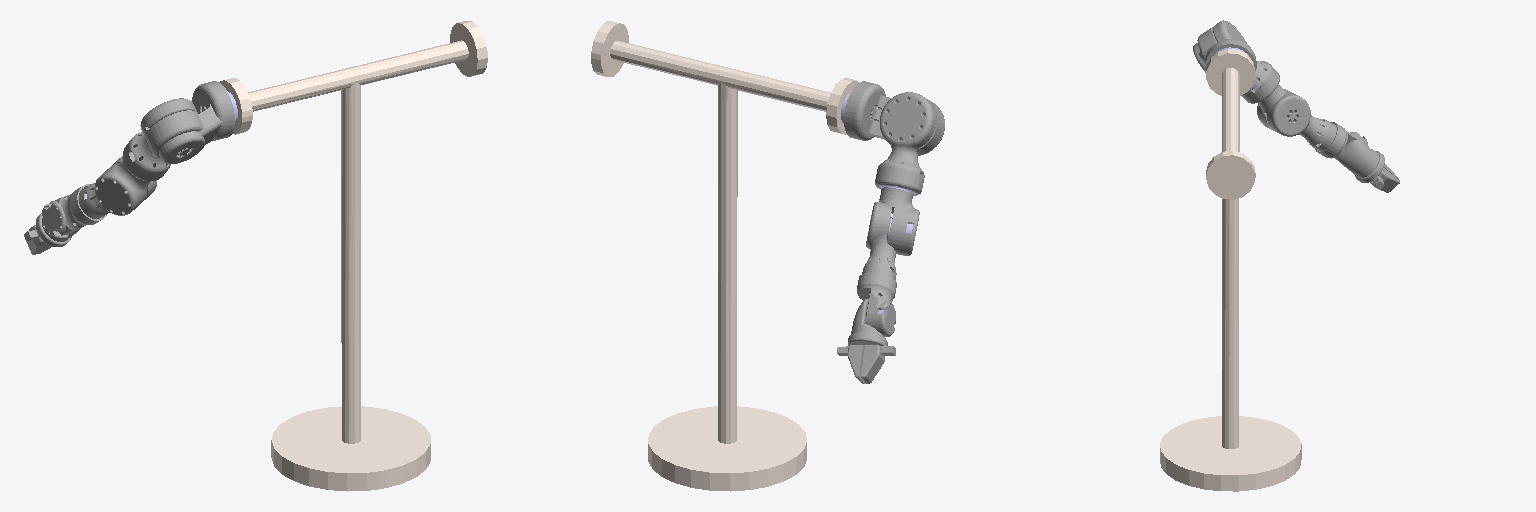
--- Render facts (derived) ---
Views: 3 orthographic renders of the robot side by side, from view 1: azimuth 30°, elevation 25°; view 2: azimuth 150°, elevation 25°; view 3: azimuth 270°, elevation 25°.
Model humanoid_arm_5dof_ with 23 links and 22 joints (6 revolute, 2 prismatic, 14 fixed), rooted at base_link, posed all joints at 0.
Visible links, largest first — view 1: base_link, left_shoulder_pitch, left_shoulder_roll, left_shoulder_yaw, left_wrist, left_elbow; view 2: base_link, left_shoulder_roll, left_shoulder_pitch, left_wrist, left_elbow, left_shoulder_yaw, left_palm, left_palm_left_finger; view 3: base_link, left_elbow, left_shoulder_roll, left_hand, left_shoulder_pitch, left_wrist.
Link boxes in pixels (box(x1,y1,x2,y2)): base_link: box(220, 21, 487, 491); left_shoulder_pitch: box(145, 81, 234, 163); left_shoulder_roll: box(123, 98, 197, 180); left_shoulder_yaw: box(95, 161, 150, 215); left_wrist: box(42, 184, 106, 235); left_elbow: box(79, 156, 156, 218); base_link: box(591, 21, 858, 491); left_shoulder_roll: box(875, 92, 936, 195); left_shoulder_pitch: box(844, 81, 944, 155); left_wrist: box(857, 272, 896, 336); left_elbow: box(862, 202, 896, 279); left_shoulder_yaw: box(879, 188, 919, 255); left_palm: box(837, 333, 895, 355); left_palm_left_finger: box(861, 345, 884, 383); base_link: box(1160, 49, 1301, 491); left_elbow: box(1267, 92, 1336, 151); left_shoulder_roll: box(1213, 20, 1279, 103); left_hand: box(1337, 140, 1378, 177); left_shoulder_pitch: box(1193, 27, 1256, 72); left_wrist: box(1315, 122, 1368, 159).
Size in the robot's own frame: 1.07 by 0.677 by 1.12 metres.
23 mesh visuals loaded from 23 distinct referenced files (23 binary STL).

robot.urdf — humanoid_arm_5dof_:
<?xml version="1.0" encoding="utf-8"?>
<!-- This URDF was automatically created by SolidWorks to URDF Exporter! Originally created by Stephen Brawner ([email redacted]) 
     Commit Version: 1.6.0-4-g7f85cfe  Build Version: 1.6.7995.38578
     For more information, please see http://wiki.ros.org/sw_urdf_exporter -->
<robot
  name="humanoid_arm_5dof_">
  <link
    name="base_link">
    <inertial>
      <origin
        xyz="-7.688E-08 -6.1286E-07 0.33673"
        rpy="0 0 0" />
      <mass
        value="81.158" />
      <inertia
        ixx="15.828"
        ixy="-6.0733E-06"
        ixz="3.5965E-06"
        iyy="17.002"
        iyz="3.1799E-05"
        izz="2.1791" />
    </inertial>
    <visual>
      <origin
        xyz="0 0 0"
        rpy="0 0 0" />
      <geometry>
        <mesh
          filename="package://humanoid_arm_5dof_/meshes/base_link.STL" />
      </geometry>
      <material
        name="">
        <color
          rgba="1 0.94902 0.9098 1" />
      </material>
    </visual>
    <collision>
      <origin
        xyz="0 0 0"
        rpy="0 0 0" />
      <geometry>
        <mesh
          filename="package://humanoid_arm_5dof_/meshes/base_link.STL" />
      </geometry>
    </collision>
  </link>
  <link
    name="left_shoulder_pitch_rs04_actuator">
    <inertial>
      <origin
        xyz="-0.024532 1.1724E-12 -9.6279E-13"
        rpy="0 0 0" />
      <mass
        value="1.345" />
      <inertia
        ixx="0.00087641"
        ixy="-1.1554E-17"
        ixz="-1.4768E-16"
        iyy="0.0005424"
        iyz="-3.5471E-06"
        izz="0.00054116" />
    </inertial>
    <visual>
      <origin
        xyz="0 0 0"
        rpy="0 0 0" />
      <geometry>
        <mesh
          filename="package://humanoid_arm_5dof_/meshes/left_shoulder_pitch_rs04_actuator.STL" />
      </geometry>
      <material
        name="">
        <color
          rgba="0.82353 0.82353 1 1" />
      </material>
    </visual>
    <collision>
      <origin
        xyz="0 0 0"
        rpy="0 0 0" />
      <geometry>
        <mesh
          filename="package://humanoid_arm_5dof_/meshes/left_shoulder_pitch_rs04_actuator.STL" />
      </geometry>
    </collision>
  </link>
  <joint
    name="left_shoulder_pitch_rs04_actuator_fixture_link"
    type="fixed">
    <origin
      xyz="-0.4077 0 1.05"
      rpy="-0.63866 0 3.1416" />
    <parent
      link="base_link" />
    <child
      link="left_shoulder_pitch_rs04_actuator" />
    <axis
      xyz="0 0 0" />
  </joint>
  <link
    name="left_shoulder_pitch_rs04_flange">
    <inertial>
      <origin
        xyz="-0.0018894 -9.5572E-05 2.5808E-05"
        rpy="0 0 0" />
      <mass
        value="0.0075" />
      <inertia
        ixx="2.3623E-06"
        ixy="8.4108E-21"
        ixz="-1.0866E-20"
        iyy="1.1941E-06"
        iyz="3.7058E-21"
        izz="1.1941E-06" />
    </inertial>
    <visual>
      <origin
        xyz="0 0 0"
        rpy="0 0 0" />
      <geometry>
        <mesh
          filename="package://humanoid_arm_5dof_/meshes/left_shoulder_pitch_rs04_flange.STL" />
      </geometry>
      <material
        name="">
        <color
          rgba="0.82353 0.82353 1 1" />
      </material>
    </visual>
    <collision>
      <origin
        xyz="0 0 0"
        rpy="0 0 0" />
      <geometry>
        <mesh
          filename="package://humanoid_arm_5dof_/meshes/left_shoulder_pitch_rs04_flange.STL" />
      </geometry>
    </collision>
  </link>
  <joint
    name="left_shoulder_pitch_rs04"
    type="revolute">
    <origin
      xyz="0 0 0"
      rpy="0 0 0" />
    <parent
      link="left_shoulder_pitch_rs04_actuator" />
    <child
      link="left_shoulder_pitch_rs04_flange" />
    <axis
      xyz="1 0 0" />
    <limit
      lower="-3.14"
      upper="3.14"
      effort="120"
      velocity="3" />
    <safety_controller
      soft_upper_limit="3.14"
      soft_lower_limit="-3.14"
      k_velocity="0" />
  </joint>
  <link
    name="left_shoulder_pitch">
    <inertial>
      <origin
        xyz="0.068247 0.039551 -5.2339E-06"
        rpy="0 0 0" />
      <mass
        value="0.29944" />
      <inertia
        ixx="0.0043457"
        ixy="-0.0020544"
        ixz="-3.8776E-07"
        iyy="0.0075578"
        iyz="-1.6186E-07"
        izz="0.0076907" />
    </inertial>
    <visual>
      <origin
        xyz="0 0 0"
        rpy="0 0 0" />
      <geometry>
        <mesh
          filename="package://humanoid_arm_5dof_/meshes/left_shoulder_pitch.STL" />
      </geometry>
      <material
        name="">
        <color
          rgba="0.69804 0.69804 0.69804 1" />
      </material>
    </visual>
    <collision>
      <origin
        xyz="0 0 0"
        rpy="0 0 0" />
      <geometry>
        <mesh
          filename="package://humanoid_arm_5dof_/meshes/left_shoulder_pitch.STL" />
      </geometry>
    </collision>
  </link>
  <joint
    name="left_shoulder_pitch_fixture"
    type="fixed">
    <origin
      xyz="0 0 0"
      rpy="0 0 0" />
    <parent
      link="left_shoulder_pitch_rs04_flange" />
    <child
      link="left_shoulder_pitch" />
    <axis
      xyz="0 0 0" />
  </joint>
  <link
    name="left_shoulder_roll_rs04_flange">
    <inertial>
      <origin
        xyz="-8.0792E-12 -0.0021106 2.1539E-10"
        rpy="0 0 0" />
      <mass
        value="0.0075" />
      <inertia
        ixx="1.1941E-06"
        ixy="2.5808E-22"
        ixz="8.8674E-22"
        iyy="2.3623E-06"
        iyz="-4.903E-15"
        izz="1.1941E-06" />
    </inertial>
    <visual>
      <origin
        xyz="0 0 0"
        rpy="0 0 0" />
      <geometry>
        <mesh
          filename="package://humanoid_arm_5dof_/meshes/left_shoulder_roll_rs04_flange.STL" />
      </geometry>
      <material
        name="">
        <color
          rgba="0.82353 0.82353 1 1" />
      </material>
    </visual>
    <collision>
      <origin
        xyz="0 0 0"
        rpy="0 0 0" />
      <geometry>
        <mesh
          filename="package://humanoid_arm_5dof_/meshes/left_shoulder_roll_rs04_flange.STL" />
      </geometry>
    </collision>
  </link>
  <joint
    name="left_shoulder_roll_rs04_flange"
    type="fixed">
    <origin
      xyz="0.116775431275821 0.0487000000004332 -2.70558071411298E-05"
      rpy="0 0 3.14159265358979" />
    <parent
      link="left_shoulder_pitch" />
    <child
      link="left_shoulder_roll_rs04_flange" />
    <axis
      xyz="0 0 0" />
  </joint>
  <link
    name="left_shoulder_roll_rs04_actuator">
    <inertial>
      <origin
        xyz="7.5431E-05 0.020532 2.7056E-05"
        rpy="0 0 0" />
      <mass
        value="1.345" />
      <inertia
        ixx="0.00054201"
        ixy="-1.5116E-14"
        ixz="-3.5941E-06"
        iyy="0.00087641"
        iyz="-1.4055E-12"
        izz="0.00054156" />
    </inertial>
    <visual>
      <origin
        xyz="0 0 0"
        rpy="0 0 0" />
      <geometry>
        <mesh
          filename="package://humanoid_arm_5dof_/meshes/left_shoulder_roll_rs04_actuator.STL" />
      </geometry>
      <material
        name="">
        <color
          rgba="0.82353 0.82353 1 1" />
      </material>
    </visual>
    <collision>
      <origin
        xyz="0 0 0"
        rpy="0 0 0" />
      <geometry>
        <mesh
          filename="package://humanoid_arm_5dof_/meshes/left_shoulder_roll_rs04_actuator.STL" />
      </geometry>
    </collision>
  </link>
  <joint
    name="left_shoulder_roll_rs04"
    type="revolute">
    <origin
      xyz="0 0 0"
      rpy="0 0 0" />
    <parent
      link="left_shoulder_roll_rs04_flange" />
    <child
      link="left_shoulder_roll_rs04_actuator" />
    <axis
      xyz="0 -1 0" />
    <limit
      lower="-3.5"
      upper="0.6"
      effort="120"
      velocity="3" />
    <safety_controller
      soft_upper_limit="3.14"
      soft_lower_limit="-3.14"
      k_velocity="0" />
  </joint>
  <link
    name="left_shoulder_roll">
    <inertial>
      <origin
        xyz="-0.0075223 0.049755 -0.055681"
        rpy="0 0 0" />
      <mass
        value="0.2494" />
      <inertia
        ixx="0.0066808"
        ixy="-0.00010577"
        ixz="-0.00053776"
        iyy="0.0073988"
        iyz="-0.0008009"
        izz="0.0022285" />
    </inertial>
    <visual>
      <origin
        xyz="0 0 0"
        rpy="0 0 0" />
      <geometry>
        <mesh
          filename="package://humanoid_arm_5dof_/meshes/left_shoulder_roll.STL" />
      </geometry>
      <material
        name="">
        <color
          rgba="0.69804 0.69804 0.69804 1" />
      </material>
    </visual>
    <collision>
      <origin
        xyz="0 0 0"
        rpy="0 0 0" />
      <geometry>
        <mesh
          filename="package://humanoid_arm_5dof_/meshes/left_shoulder_roll.STL" />
      </geometry>
    </collision>
  </link>
  <joint
    name="left_shoulde_roll_fixture"
    type="fixed">
    <origin
      xyz="0 0 0"
      rpy="0 0 0" />
    <parent
      link="left_shoulder_roll_rs04_actuator" />
    <child
      link="left_shoulder_roll" />
    <axis
      xyz="0 0 0" />
  </joint>
  <link
    name="left_shoulder_yaw_rs03_actuator">
    <inertial>
      <origin
        xyz="-0.00013735 -0.00027 0.025084"
        rpy="0 0 0" />
      <mass
        value="0.83" />
      <inertia
        ixx="0.00027432"
        ixy="-2.0735E-06"
        ixz="-2.5625E-07"
        iyy="0.00027129"
        iyz="-5.1493E-07"
        izz="0.00038166" />
    </inertial>
    <visual>
      <origin
        xyz="0 0 0"
        rpy="0 0 0" />
      <geometry>
        <mesh
          filename="package://humanoid_arm_5dof_/meshes/left_shoulder_yaw_rs03_actuator.STL" />
      </geometry>
      <material
        name="">
        <color
          rgba="0.82353 0.82353 1 1" />
      </material>
    </visual>
    <collision>
      <origin
        xyz="0 0 0"
        rpy="0 0 0" />
      <geometry>
        <mesh
          filename="package://humanoid_arm_5dof_/meshes/left_shoulder_yaw_rs03_actuator.STL" />
      </geometry>
    </collision>
  </link>
  <joint
    name="left_shoulder_yaw_rs03_actuator_fixture_link"
    type="fixed">
    <origin
      xyz="-0.0219716026665047 0.037700000000231 -0.173578614834026"
      rpy="0.0571232415871479 0.112571267005327 0.470875575147914" />
    <parent
      link="left_shoulder_roll" />
    <child
      link="left_shoulder_yaw_rs03_actuator" />
    <axis
      xyz="0 0 0" />
  </joint>
  <link
    name="left_shoulder_yaw_rs03_flange">
    <inertial>
      <origin
        xyz="-2.7103E-10 -6.8047E-10 -0.0012563"
        rpy="0 0 0" />
      <mass
        value="0.005" />
      <inertia
        ixx="5.6768E-07"
        ixy="8.2222E-22"
        ixz="8.735E-22"
        iyy="5.6768E-07"
        iyz="0"
        izz="1.1311E-06" />
    </inertial>
    <visual>
      <origin
        xyz="0 0 0"
        rpy="0 0 0" />
      <geometry>
        <mesh
          filename="package://humanoid_arm_5dof_/meshes/left_shoulder_yaw_rs03_flange.STL" />
      </geometry>
      <material
        name="">
        <color
          rgba="0.82353 0.82353 1 1" />
      </material>
    </visual>
    <collision>
      <origin
        xyz="0 0 0"
        rpy="0 0 0" />
      <geometry>
        <mesh
          filename="package://humanoid_arm_5dof_/meshes/left_shoulder_yaw_rs03_flange.STL" />
      </geometry>
    </collision>
  </link>
  <joint
    name="left_shoulder_yaw_rs03"
    type="revolute">
    <origin
      xyz="0 0 0"
      rpy="0 0 0" />
    <parent
      link="left_shoulder_yaw_rs03_actuator" />
    <child
      link="left_shoulder_yaw_rs03_flange" />
    <axis
      xyz="0 0 1" />
    <limit
      lower="-3.14"
      upper="3.14"
      effort="60"
      velocity="1.6" />
    <safety_controller
      soft_upper_limit="3.14"
      soft_lower_limit="-3.14"
      k_velocity="0" />
  </joint>
  <link
    name="left_shoulder_yaw_flange">
    <inertial>
      <origin
        xyz="-2.2487E-10 -3.6886E-10 -0.0089804"
        rpy="0 0 0" />
      <mass
        value="0.0088382" />
      <inertia
        ixx="1.2318E-05"
        ixy="-9.4259E-08"
        ixz="4.4901E-16"
        iyy="1.1992E-05"
        iyz="-6.0557E-16"
        izz="2.339E-05" />
    </inertial>
    <visual>
      <origin
        xyz="0 0 0"
        rpy="0 0 0" />
      <geometry>
        <mesh
          filename="package://humanoid_arm_5dof_/meshes/left_shoulder_yaw_flange.STL" />
      </geometry>
      <material
        name="">
        <color
          rgba="0.69804 0.69804 0.69804 1" />
      </material>
    </visual>
    <collision>
      <origin
        xyz="0 0 0"
        rpy="0 0 0" />
      <geometry>
        <mesh
          filename="package://humanoid_arm_5dof_/meshes/left_shoulder_yaw_flange.STL" />
      </geometry>
    </collision>
  </link>
  <joint
    name="left_shoulder_yaw_flange_fixture"
    type="fixed">
    <origin
      xyz="0 0 0"
      rpy="0 0 0" />
    <parent
      link="left_shoulder_yaw_rs03_flange" />
    <child
      link="left_shoulder_yaw_flange" />
    <axis
      xyz="0 0 0" />
  </joint>
  <link
    name="left_shoulder_yaw">
    <inertial>
      <origin
        xyz="-0.027609 1.0121E-06 -0.076632"
        rpy="0 0 0" />
      <mass
        value="0.122018" />
      <inertia
        ixx="0.0018364"
        ixy="2.5971E-07"
        ixz="-0.00033902"
        iyy="0.0016454"
        iyz="8.6387E-08"
        izz="0.0010145" />
    </inertial>
    <visual>
      <origin
        xyz="0 0 0"
        rpy="0 0 0" />
      <geometry>
        <mesh
          filename="package://humanoid_arm_5dof_/meshes/left_shoulder_yaw.STL" />
      </geometry>
      <material
        name="">
        <color
          rgba="0.69804 0.69804 0.69804 1" />
      </material>
    </visual>
    <collision>
      <origin
        xyz="0 0 0"
        rpy="0 0 0" />
      <geometry>
        <mesh
          filename="package://humanoid_arm_5dof_/meshes/left_shoulder_yaw.STL" />
      </geometry>
    </collision>
  </link>
  <joint
    name="left_shoulder_yaw_fixture"
    type="fixed">
    <origin
      xyz="0 0 0"
      rpy="0 0 0" />
    <parent
      link="left_shoulder_yaw_flange" />
    <child
      link="left_shoulder_yaw" />
    <axis
      xyz="0 0 0" />
  </joint>
  <link
    name="left_elbow_rs03_actuator">
    <inertial>
      <origin
        xyz="-0.025084 8.1191E-07 -0.00030291"
        rpy="0 0 0" />
      <mass
        value="0.83" />
      <inertia
        ixx="0.00038166"
        ixy="3.1874E-09"
        ixz="5.7519E-07"
        iyy="0.00027537"
        iyz="1.1044E-08"
        izz="0.00027024" />
    </inertial>
    <visual>
      <origin
        xyz="0 0 0"
        rpy="0 0 0" />
      <geometry>
        <mesh
          filename="package://humanoid_arm_5dof_/meshes/left_elbow_rs03_actuator.STL" />
      </geometry>
      <material
        name="">
        <color
          rgba="0.82353 0.82353 1 1" />
      </material>
    </visual>
    <collision>
      <origin
        xyz="0 0 0"
        rpy="0 0 0" />
      <geometry>
        <mesh
          filename="package://humanoid_arm_5dof_/meshes/left_elbow_rs03_actuator.STL" />
      </geometry>
    </collision>
  </link>
  <joint
    name="left_elbow_rs03_actuator_ficture_link"
    type="fixed">
    <origin
      xyz="0 0 -0.0987000004167597"
      rpy="0 0 0" />
    <parent
      link="left_shoulder_yaw" />
    <child
      link="left_elbow_rs03_actuator" />
    <axis
      xyz="0 0 0" />
  </joint>
  <link
    name="left_elbow_rs03_flange">
    <inertial>
      <origin
        xyz="0.0012563 -1.3768E-09 -1.6639E-10"
        rpy="0 0 0" />
      <mass
        value="0.005" />
      <inertia
        ixx="1.1311E-06"
        ixy="1.2805E-21"
        ixz="4.8043E-21"
        iyy="5.6768E-07"
        iyz="-4.4999E-22"
        izz="5.6768E-07" />
    </inertial>
    <visual>
      <origin
        xyz="0 0 0"
        rpy="0 0 0" />
      <geometry>
        <mesh
          filename="package://humanoid_arm_5dof_/meshes/left_elbow_rs03_flange.STL" />
      </geometry>
      <material
        name="">
        <color
          rgba="0.82353 0.82353 1 1" />
      </material>
    </visual>
    <collision>
      <origin
        xyz="0 0 0"
        rpy="0 0 0" />
      <geometry>
        <mesh
          filename="package://humanoid_arm_5dof_/meshes/left_elbow_rs03_flange.STL" />
      </geometry>
    </collision>
  </link>
  <joint
    name="left_elbow_rs03"
    type="revolute">
    <origin
      xyz="0 0 0"
      rpy="0 0 0" />
    <parent
      link="left_elbow_rs03_actuator" />
    <child
      link="left_elbow_rs03_flange" />
    <axis
      xyz="-1 0 0" />
    <limit
      lower="-1.3"
      upper="1.9"
      effort="60"
      velocity="1.6" />
    <safety_controller
      soft_upper_limit="3.14"
      soft_lower_limit="-3.14"
      k_velocity="0" />
  </joint>
  <link
    name="left_elbow">
    <inertial>
      <origin
        xyz="0.020821 0.0089724 -0.03236"
        rpy="0 0 0" />
      <mass
        value="0.194942" />
      <inertia
        ixx="0.0036503"
        ixy="0.00012418"
        ixz="-0.00045842"
        iyy="0.0031234"
        iyz="0.00057257"
        izz="0.001216" />
    </inertial>
    <visual>
      <origin
        xyz="0 0 0"
        rpy="0 0 0" />
      <geometry>
        <mesh
          filename="package://humanoid_arm_5dof_/meshes/left_elbow.STL" />
      </geometry>
      <material
        name="">
        <color
          rgba="0.69804 0.69804 0.69804 1" />
      </material>
    </visual>
    <collision>
      <origin
        xyz="0 0 0"
        rpy="0 0 0" />
      <geometry>
        <mesh
          filename="package://humanoid_arm_5dof_/meshes/left_elbow.STL" />
      </geometry>
    </collision>
  </link>
  <joint
    name="left_elbow_fixture"
    type="fixed">
    <origin
      xyz="0 0 0"
      rpy="0 0 0" />
    <parent
      link="left_elbow_rs03_flange" />
    <child
      link="left_elbow" />
    <axis
      xyz="0 0 0" />
  </joint>
  <link
    name="left_wrist_actuator">
    <inertial>
      <origin
        xyz="-6.2885E-10 -0.023014 2.7886E-07"
        rpy="0 0 0" />
      <mass
        value="0.38" />
      <inertia
        ixx="8.809E-05"
        ixy="-1.0052E-17"
        ixz="-7.3692E-20"
        iyy="0.000127"
        iyz="3.6836E-17"
        izz="8.809E-05" />
    </inertial>
    <visual>
      <origin
        xyz="0 0 0"
        rpy="0 0 0" />
      <geometry>
        <mesh
          filename="package://humanoid_arm_5dof_/meshes/left_wrist_actuator.STL" />
      </geometry>
      <material
        name="">
        <color
          rgba="0.82353 0.82353 1 1" />
      </material>
    </visual>
    <collision>
      <origin
        xyz="0 0 0"
        rpy="0 0 0" />
      <geometry>
        <mesh
          filename="package://humanoid_arm_5dof_/meshes/left_wrist_actuator.STL" />
      </geometry>
    </collision>
  </link>
  <joint
    name="left_wrist_rs02_actuator_fixture_link"
    type="fixed">
    <origin
      xyz="0.00550000028936815 0.0440612514790653 -0.158489293351936"
      rpy="-1.29963429793404 0 0" />
    <parent
      link="left_elbow" />
    <child
      link="left_wrist_actuator" />
    <axis
      xyz="0 0 0" />
  </joint>
  <link
    name="left_wrist_rs02_flange">
    <inertial>
      <origin
        xyz="-5.926E-10 -0.0019899 2.7821E-07"
        rpy="0 0 0" />
      <mass
        value="0.0025" />
      <inertia
        ixx="1.3495E-07"
        ixy="8.3817E-20"
        ixz="-2.8165E-22"
        iyy="2.634E-07"
        iyz="1.0098E-19"
        izz="1.3495E-07" />
    </inertial>
    <visual>
      <origin
        xyz="0 0 0"
        rpy="0 0 0" />
      <geometry>
        <mesh
          filename="package://humanoid_arm_5dof_/meshes/left_wrist_rs02_flange.STL" />
      </geometry>
      <material
        name="">
        <color
          rgba="0.82353 0.82353 1 1" />
      </material>
    </visual>
    <collision>
      <origin
        xyz="0 0 0"
        rpy="0 0 0" />
      <geometry>
        <mesh
          filename="package://humanoid_arm_5dof_/meshes/left_wrist_rs02_flange.STL" />
      </geometry>
    </collision>
  </link>
  <joint
    name="left_wrist_rs02"
    type="revolute">
    <origin
      xyz="0 0 0"
      rpy="0 0 0" />
    <parent
      link="left_wrist_actuator" />
    <child
      link="left_wrist_rs02_flange" />
    <axis
      xyz="0 1 0" />
    <limit
      lower="-3.14"
      upper="3.14"
      effort="17"
      velocity="0.8" />
    <safety_controller
      soft_upper_limit="3.14"
      soft_lower_limit="-3.14"
      k_velocity="0" />
  </joint>
  <link
    name="left_wrist">
    <inertial>
      <origin
        xyz="-0.012628 0.041809 0.0059405"
        rpy="0 0 0" />
      <mass
        value="0.097238" />
      <inertia
        ixx="0.0010421"
        ixy="0.00023897"
        ixz="2.5575E-06"
        iyy="0.00064729"
        iyz="-0.00011195"
        izz="0.0010487" />
    </inertial>
    <visual>
      <origin
        xyz="0 0 0"
        rpy="0 0 0" />
      <geometry>
        <mesh
          filename="package://humanoid_arm_5dof_/meshes/left_wrist.STL" />
      </geometry>
      <material
        name="">
        <color
          rgba="0.69804 0.69804 0.69804 1" />
      </material>
    </visual>
    <collision>
      <origin
        xyz="0 0 0"
        rpy="0 0 0" />
      <geometry>
        <mesh
          filename="package://humanoid_arm_5dof_/meshes/left_wrist.STL" />
      </geometry>
    </collision>
  </link>
  <joint
    name="left_wrist_fixture"
    type="fixed">
    <origin
      xyz="0 0 0"
      rpy="0 0 0" />
    <parent
      link="left_wrist_rs02_flange" />
    <child
      link="left_wrist" />
    <axis
      xyz="0 0 0" />
  </joint>
  <link
    name="left_hand_rs02">
    <inertial>
      <origin
        xyz="-0.023014 2.2389E-07 3.2594E-07"
        rpy="0 0 0" />
      <mass
        value="0.38" />
      <inertia
        ixx="0.000127"
        ixy="2.2647E-11"
        ixz="-1.704E-11"
        iyy="8.809E-05"
        iyz="-9.7542E-18"
        izz="8.809E-05" />
    </inertial>
    <visual>
      <origin
        xyz="0 0 0"
        rpy="0 0 0" />
      <geometry>
        <mesh
          filename="package://humanoid_arm_5dof_/meshes/left_hand_rs02.STL" />
      </geometry>
      <material
        name="">
        <color
          rgba="0.82353 0.82353 1 1" />
      </material>
    </visual>
    <collision>
      <origin
        xyz="0 0 0"
        rpy="0 0 0" />
      <geometry>
        <mesh
          filename="package://humanoid_arm_5dof_/meshes/left_hand_rs02.STL" />
      </geometry>
    </collision>
  </link>
  <joint
    name="left_hand_rs02_fixture_link"
    type="fixed">
    <origin
      xyz="0 0.0944999999997473 0"
      rpy="0.644846111175764 0.444064007774013 0" />
    <parent
      link="left_wrist" />
    <child
      link="left_hand_rs02" />
    <axis
      xyz="0 0 0" />
  </joint>
  <link
    name="left_hand_rs02_flange">
    <inertial>
      <origin
        xyz="-0.0020103 2.3612E-07 3.1674E-07"
        rpy="0 0 0" />
      <mass
        value="0.0025" />
      <inertia
        ixx="2.634E-07"
        ixy="7.4761E-14"
        ixz="-5.6253E-14"
        iyy="1.3495E-07"
        iyz="-3.249E-20"
        izz="1.3495E-07" />
    </inertial>
    <visual>
      <origin
        xyz="0 0 0"
        rpy="0 0 0" />
      <geometry>
        <mesh
          filename="package://humanoid_arm_5dof_/meshes/left_hand_rs02_flange.STL" />
      </geometry>
      <material
        name="">
        <color
          rgba="0.82353 0.82353 1 1" />
      </material>
    </visual>
    <collision>
      <origin
        xyz="0 0 0"
        rpy="0 0 0" />
      <geometry>
        <mesh
          filename="package://humanoid_arm_5dof_/meshes/left_hand_rs02_flange.STL" />
      </geometry>
    </collision>
  </link>
  <joint
    name="left_hand_rs02"
    type="revolute">
    <origin
      xyz="0 0 0"
      rpy="0 0 0" />
    <parent
      link="left_hand_rs02" />
    <child
      link="left_hand_rs02_flange" />
    <axis
      xyz="0.999999999999735 0 0" />
    <limit
      lower="-1.5"
      upper="1.7"
      effort="17"
      velocity="0.8" />
    <safety_controller
      soft_upper_limit="1.7"
      soft_lower_limit="-1.5"
      k_velocity="0" />
  </joint>
  <link
    name="left_hand">
    <inertial>
      <origin
        xyz="0.011977 0.011477 -0.011141"
        rpy="0 0 0" />
      <mass
        value="0.071382" />
      <inertia
        ixx="0.00044328"
        ixy="2.0211E-05"
        ixz="-2.0027E-05"
        iyy="0.00030939"
        iyz="3.838E-05"
        izz="0.00030916" />
    </inertial>
    <visual>
      <origin
        xyz="0 0 0"
        rpy="0 0 0" />
      <geometry>
        <mesh
          filename="package://humanoid_arm_5dof_/meshes/left_hand.STL" />
      </geometry>
      <material
        name="">
        <color
          rgba="0.69804 0.69804 0.69804 1" />
      </material>
    </visual>
    <collision>
      <origin
        xyz="0 0 0"
        rpy="0 0 0" />
      <geometry>
        <mesh
          filename="package://humanoid_arm_5dof_/meshes/left_hand.STL" />
      </geometry>
    </collision>
  </link>
  <joint
    name="left_hand_fixture"
    type="fixed">
    <origin
      xyz="0 0 0"
      rpy="0 0 0" />
    <parent
      link="left_hand_rs02_flange" />
    <child
      link="left_hand" />
    <axis
      xyz="0 0 0" />
  </joint>
  <link
    name="left_palm">
    <inertial>
      <origin
        xyz="-9.028E-10 0.0065439 -1.9614E-09"
        rpy="0 0 0" />
      <mass
        value="0.047634" />
      <inertia
        ixx="0.00014804"
        ixy="1.9127E-12"
        ixz="2.4927E-11"
        iyy="0.00037746"
        iyz="3.0997E-12"
        izz="0.00028521" />
    </inertial>
    <visual>
      <origin
        xyz="0 0 0"
        rpy="0 0 0" />
      <geometry>
        <mesh
          filename="package://humanoid_arm_5dof_/meshes/left_palm.STL" />
      </geometry>
      <material
        name="">
        <color
          rgba="0.69804 0.69804 0.69804 1" />
      </material>
    </visual>
    <collision>
      <origin
        xyz="0 0 0"
        rpy="0 0 0" />
      <geometry>
        <mesh
          filename="package://humanoid_arm_5dof_/meshes/left_palm.STL" />
      </geometry>
    </collision>
  </link>
  <joint
    name="left_palm_fixture"
    type="fixed">
    <origin
      xyz="0 0.0468292785877469 -0.0458451123506719"
      rpy="-0.774935929629906 -0.017568105518168 0.0172027241786164" />
    <parent
      link="left_hand" />
    <child
      link="left_palm" />
    <axis
      xyz="0 0 0" />
  </joint>
  <link
    name="left_palm_right_finger">
    <inertial>
      <origin
        xyz="0.017481 0.050369 9.2308E-12"
        rpy="0 0 0" />
      <mass
        value="0.029134" />
      <inertia
        ixx="0.00010609"
        ixy="1.2822E-05"
        ixz="-4.1713E-16"
        iyy="4.9057E-05"
        iyz="-3.9807E-16"
        izz="8.8986E-05" />
    </inertial>
    <visual>
      <origin
        xyz="0 0 0"
        rpy="0 0 0" />
      <geometry>
        <mesh
          filename="package://humanoid_arm_5dof_/meshes/left_palm_right_finger.STL" />
      </geometry>
      <material
        name="">
        <color
          rgba="0.69804 0.69804 0.69804 1" />
      </material>
    </visual>
    <collision>
      <origin
        xyz="0 0 0"
        rpy="0 0 0" />
      <geometry>
        <mesh
          filename="package://humanoid_arm_5dof_/meshes/left_palm_right_finger.STL" />
      </geometry>
    </collision>
  </link>
  <joint
    name="left_palm_right_finger"
    type="prismatic">
    <origin
      xyz="0 0 0"
      rpy="0 0 0" />
    <parent
      link="left_palm" />
    <child
      link="left_palm_right_finger" />
    <axis
      xyz="-1 0 0" />
    <limit
      lower="-0.033"
      upper="0.00026"
      effort="0"
      velocity="0" />
    <safety_controller
      soft_upper_limit="0.00026"
      soft_lower_limit="-0.033"
      k_velocity="0" />
  </joint>
  <link
    name="left_palm_left_finger">
    <inertial>
      <origin
        xyz="-0.019739 0.050369 1.0188E-11"
        rpy="0 0 0" />
      <mass
        value="0.029134" />
      <inertia
        ixx="0.00010609"
        ixy="-1.2822E-05"
        ixz="-4.6176E-16"
        iyy="4.9057E-05"
        iyz="2.5991E-16"
        izz="8.8986E-05" />
    </inertial>
    <visual>
      <origin
        xyz="0 0 0"
        rpy="0 0 0" />
      <geometry>
        <mesh
          filename="package://humanoid_arm_5dof_/meshes/left_palm_left_finger.STL" />
      </geometry>
      <material
        name="">
        <color
          rgba="0.69804 0.69804 0.69804 1" />
      </material>
    </visual>
    <collision>
      <origin
        xyz="0 0 0"
        rpy="0 0 0" />
      <geometry>
        <mesh
          filename="package://humanoid_arm_5dof_/meshes/left_palm_left_finger.STL" />
      </geometry>
    </collision>
  </link>
  <joint
    name="left_palm_left_finger"
    type="prismatic">
    <origin
      xyz="0 0 0"
      rpy="0 0 0" />
    <parent
      link="left_palm" />
    <child
      link="left_palm_left_finger" />
    <axis
      xyz="-1 0 0" />
    <limit
      lower="-0.0041"
      upper="0.033"
      effort="0"
      velocity="0" />
    <safety_controller
      soft_upper_limit="0.033"
      soft_lower_limit="-0.0041"
      k_velocity="0" />
  </joint>
</robot>
